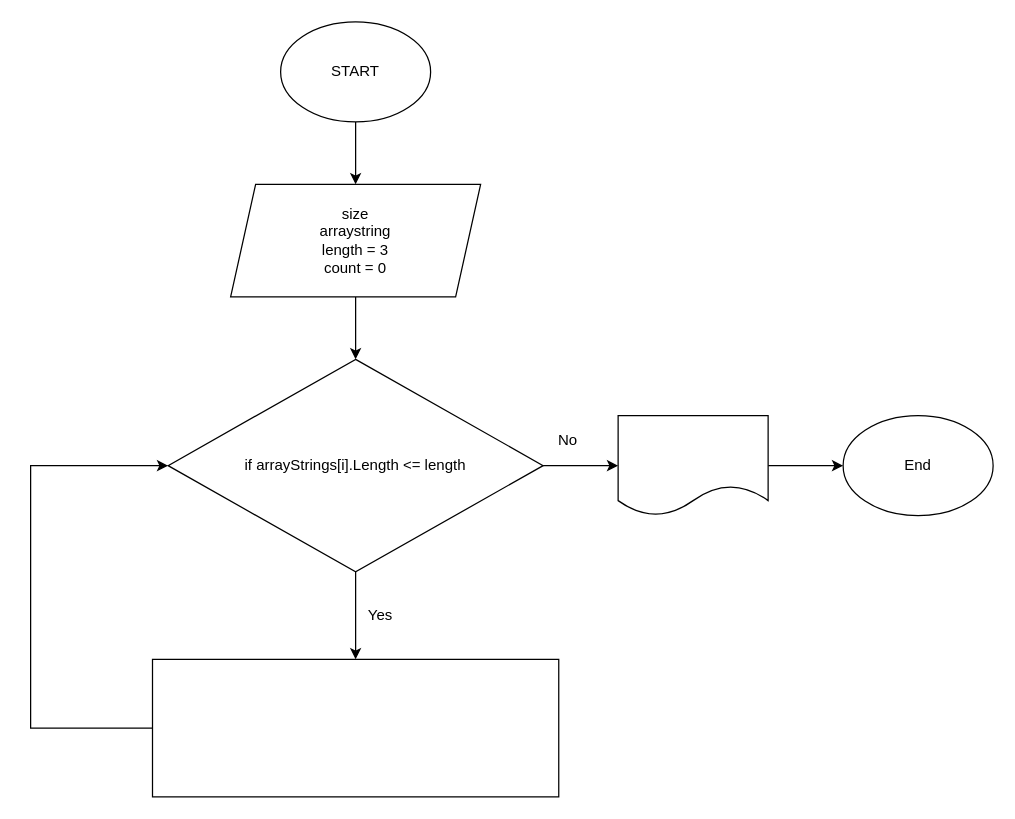
Image size: 1015x819. Some labels were removed from this diagram. Here are the shapes that lost their labels. From the top down, the box of each, then its label:
(617, 414, 768, 516): Print array
(151, 658, 559, 797): arraysecond [ count ] = arrayStrings [ i ]; count ++ i++
